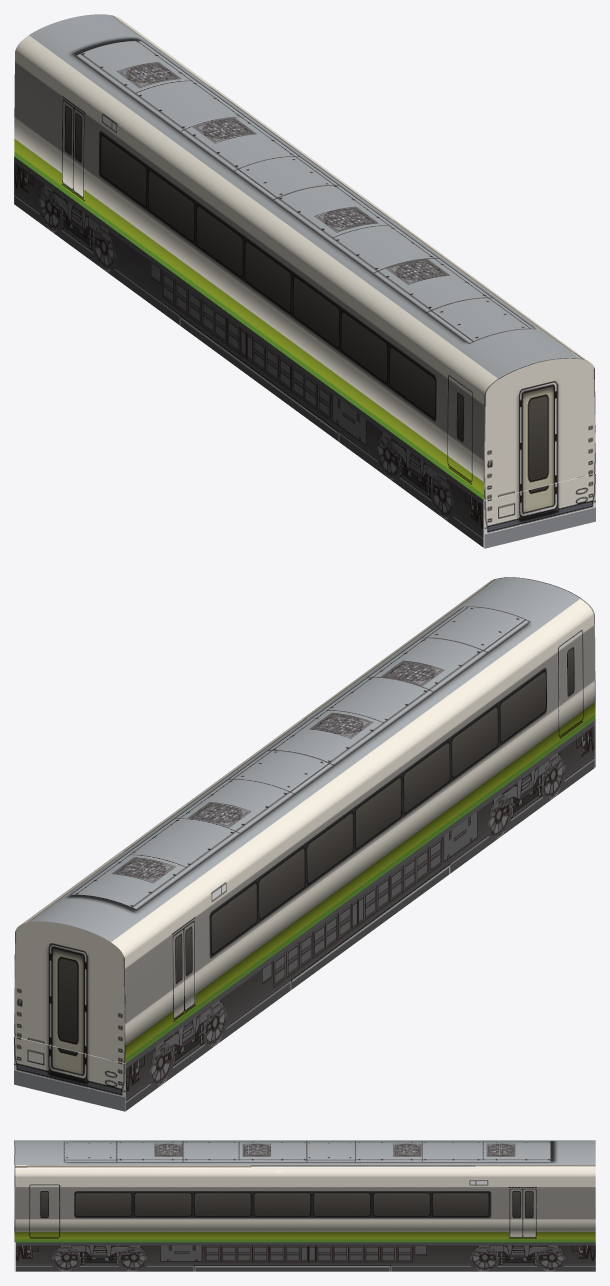
The model's file is car3.glb.
The picture shows the model from 3 angles, top to bottom: view 1: azimuth 30°, elevation 25°; view 2: azimuth 150°, elevation 25°; view 3: azimuth 270°, elevation 25°; orthographic projection. The views are drawn at different scales.
Parts seen in each view (by area): view 1: kintetsu-26000-car3; view 2: kintetsu-26000-car3; view 3: kintetsu-26000-car3.
Boxes of the visible parts, x1,y1,x2,y2 form: kintetsu-26000-car3: (14, 14, 595, 548); kintetsu-26000-car3: (14, 577, 595, 1111); kintetsu-26000-car3: (14, 1140, 595, 1271).
Size of the model in its own units: 2.8 by 4.15 by 20.53.
9 materials, 8 textured.
